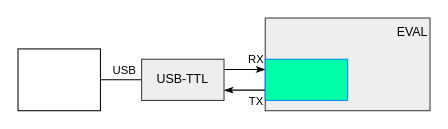
This 448x129 diagram has some shape labels left out. The centre of each missing label's shape, as x and y in pixels:
"KEYPAD" goes at (x=306, y=79).
"PC" goes at (x=58, y=79).
